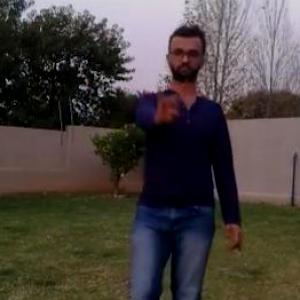takeoff-hand: (152, 79, 190, 121)
